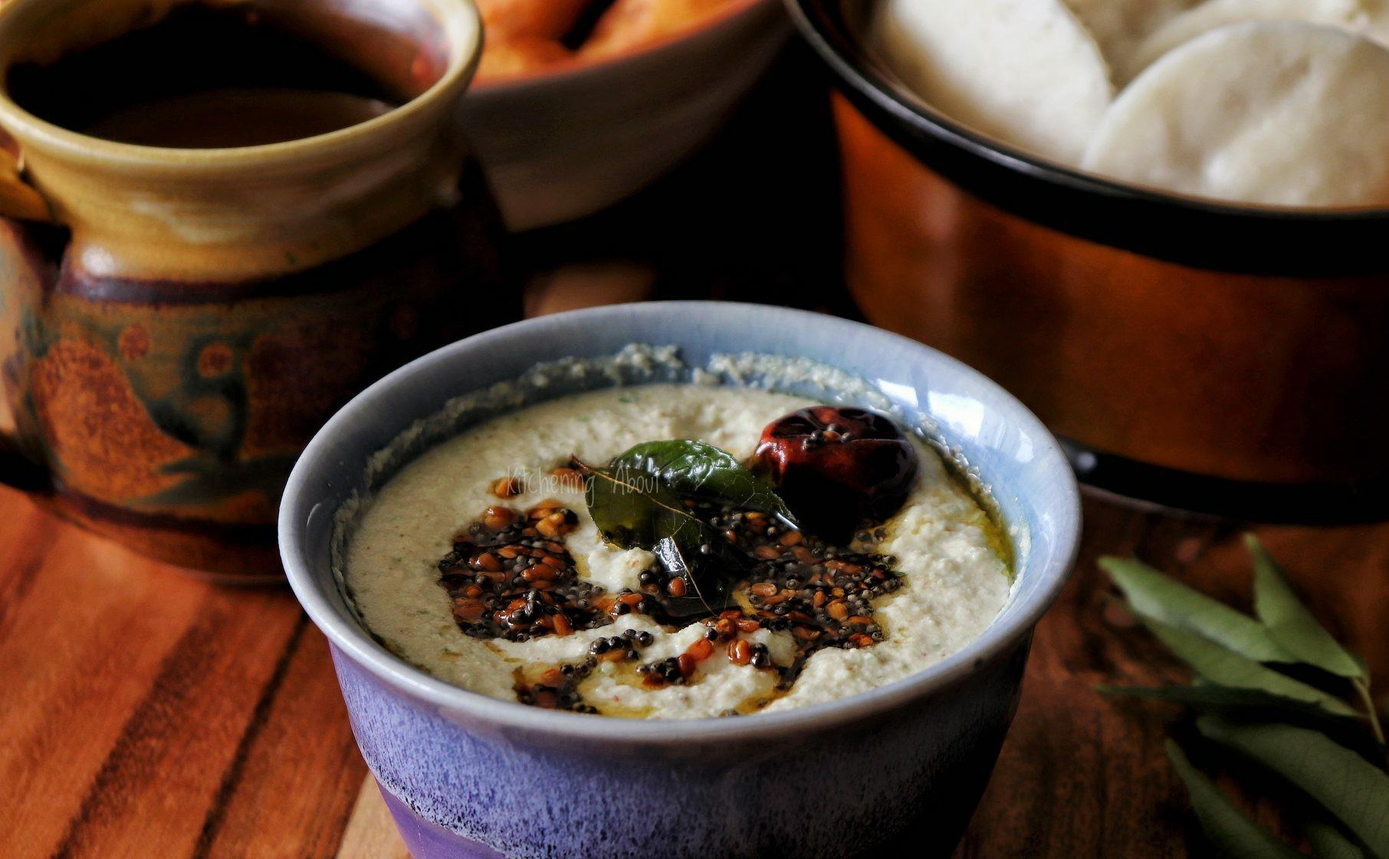CoconutChutney: (342, 377, 995, 707)
